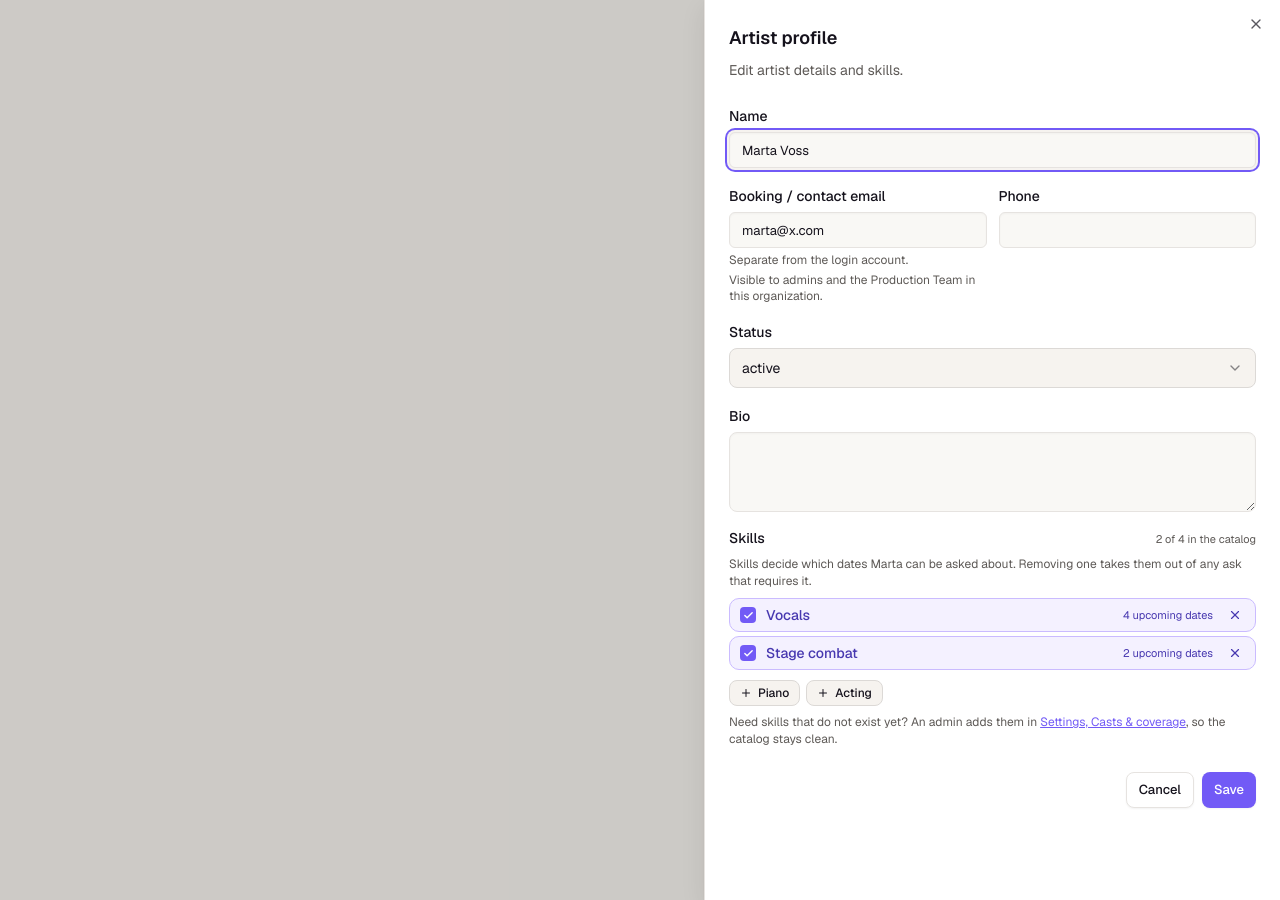
Test: ArtistProfileSheet — skills editor (design 1i) › an unheld catalog skill appears as an add-chip, and clicking it adds a held row
Click the button "Piano": (765, 693) x1=729 y1=680 x2=800 y2=706
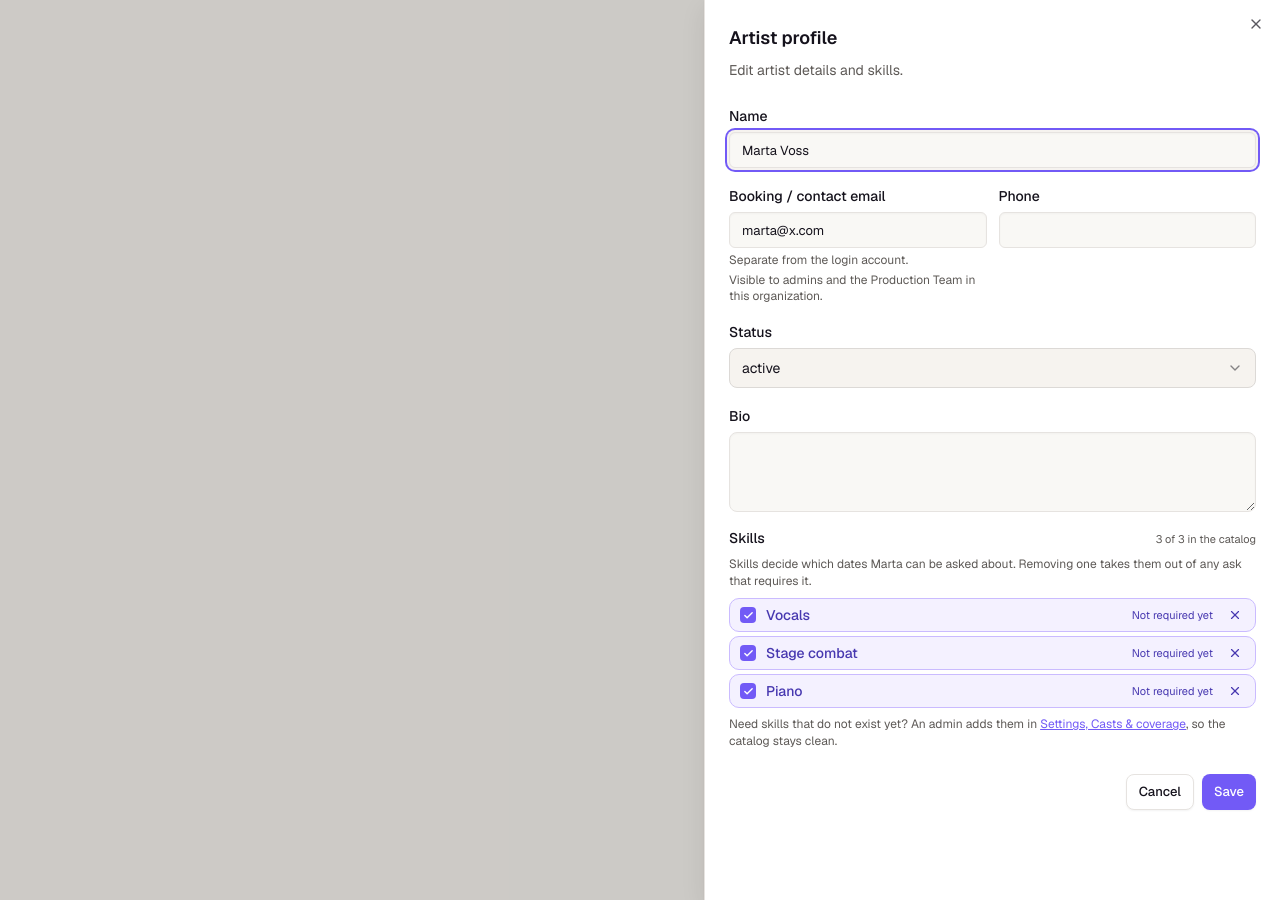
Expected: the text "Piano" is shown, x1=766 y1=682 x2=803 y2=700
Result: the text "Not required yet" in the row of "Piano" is shown at x1=1132 y1=684 x2=1213 y2=698
